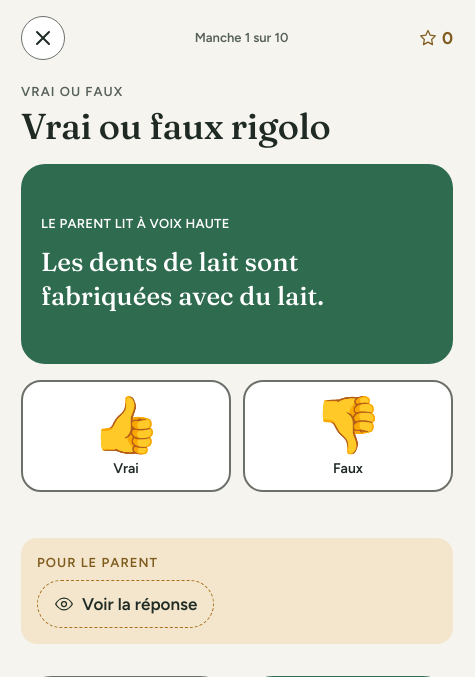
Test: Vrai ou faux rigolo, en jeu › en montrant : deux choix, Vrai puis Faux, quel que soit le niveau
Click the button "👍 Vrai": click(126, 436) [21,380,231,492]
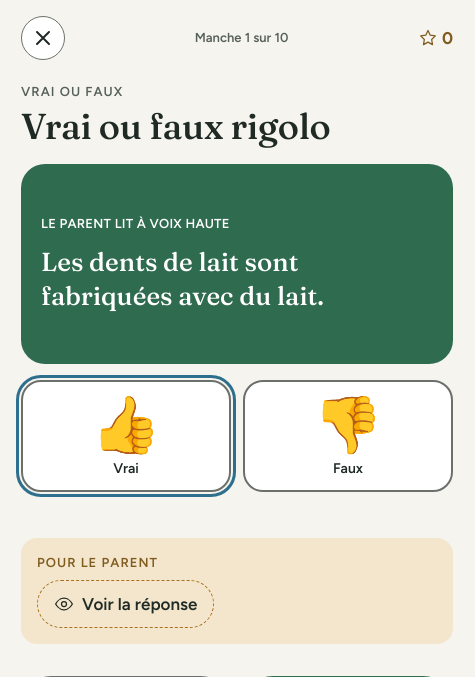
Click the button "👎 Faux": click(348, 436) [243,380,453,492]
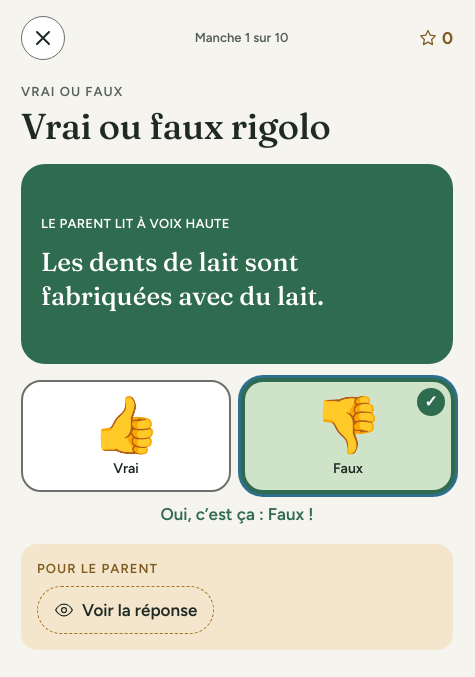
Expected: the message reads "Oui, c’est ça : Faux !", [160,504,314,524]
